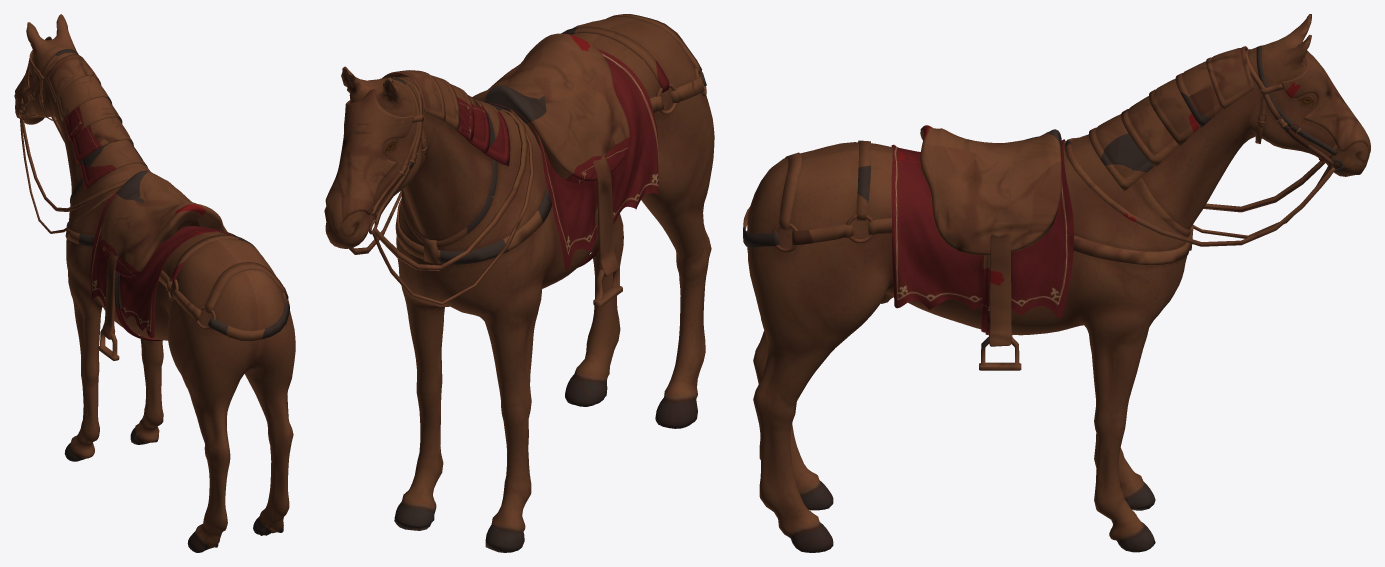
Rendered from cavallo_bardato.gltf.
The picture shows the model from 3 angles, left to right: view 1: azimuth 30°, elevation 25°; view 2: azimuth 150°, elevation 25°; view 3: azimuth 270°, elevation 25°; orthographic projection. The views are drawn at different scales.
Parts seen in each view (by area): view 1: animal; view 2: animal; view 3: animal.
Part boxes in pixels (left/top/right/bottom): animal: left=14, top=14, right=295, bottom=552; animal: left=324, top=14, right=714, bottom=552; animal: left=743, top=14, right=1370, bottom=552.
Bounding box in the file's own units: 0.5235 × 1.62 × 1.84.
Materials: 1 (1 with a texture image).
